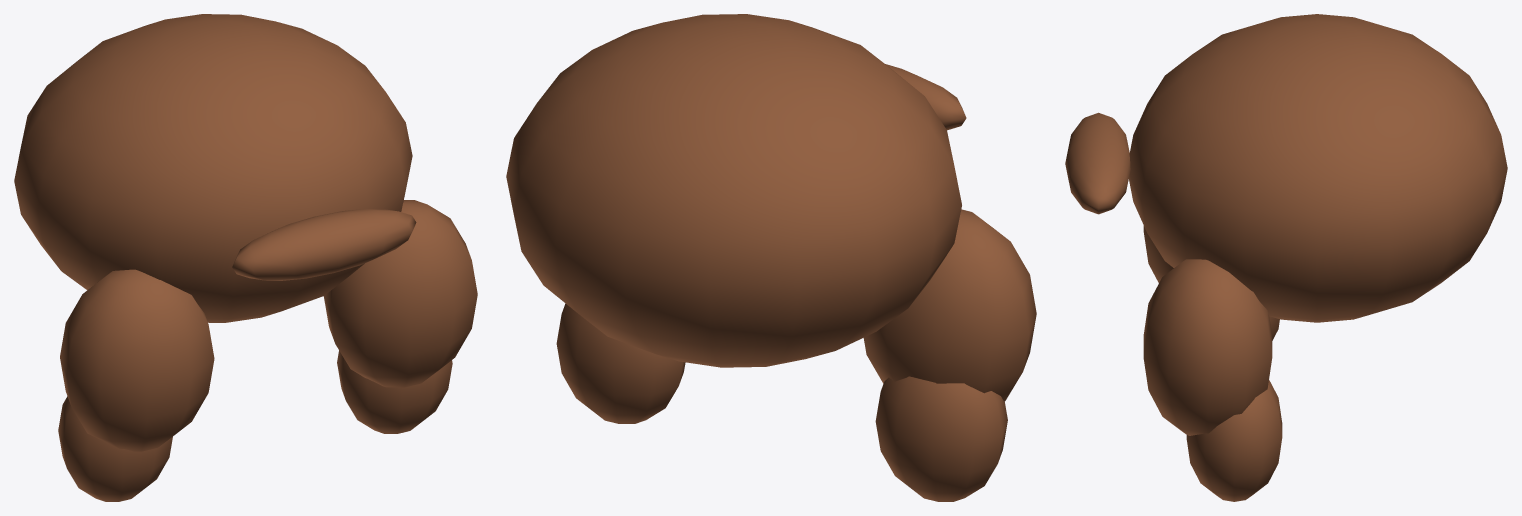
File: hair_wavy.glb
The picture shows the model from 3 angles, left to right: view 1: azimuth 30°, elevation 25°; view 2: azimuth 150°, elevation 25°; view 3: azimuth 270°, elevation 25°; orthographic projection. The views are drawn at different scales.
Parts seen in each view (by area): view 1: Hair; view 2: Hair; view 3: Hair.
Part boxes in pixels (bbox=[...]): Hair: bbox=[14, 14, 477, 501]; Hair: bbox=[506, 14, 1036, 501]; Hair: bbox=[1065, 14, 1507, 501].
Size of the model in its own units: 16.19 by 15.18 by 15.56.
